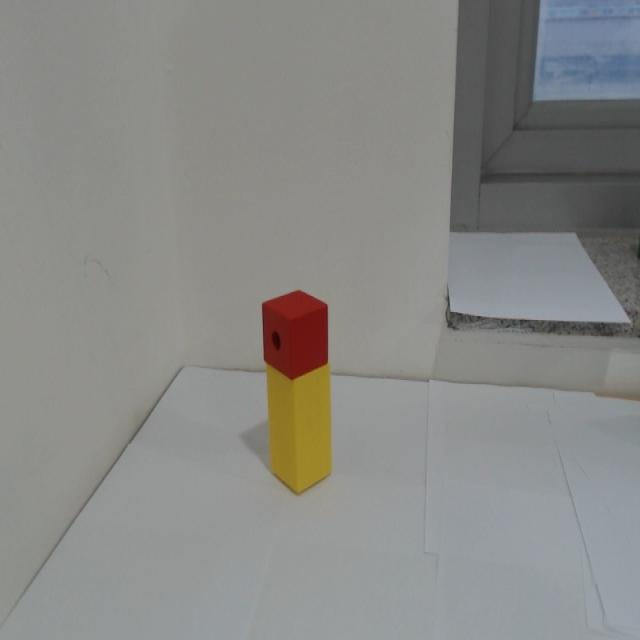cube: (260, 286, 331, 382)
